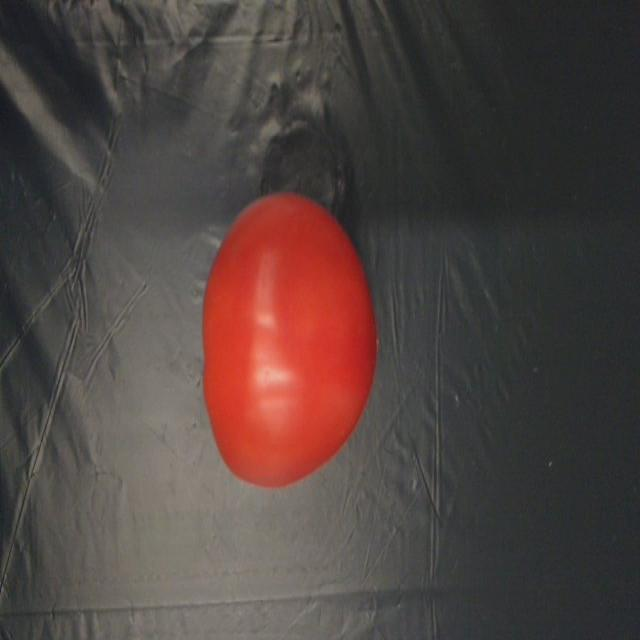kirmizi: (186, 196, 394, 503)
